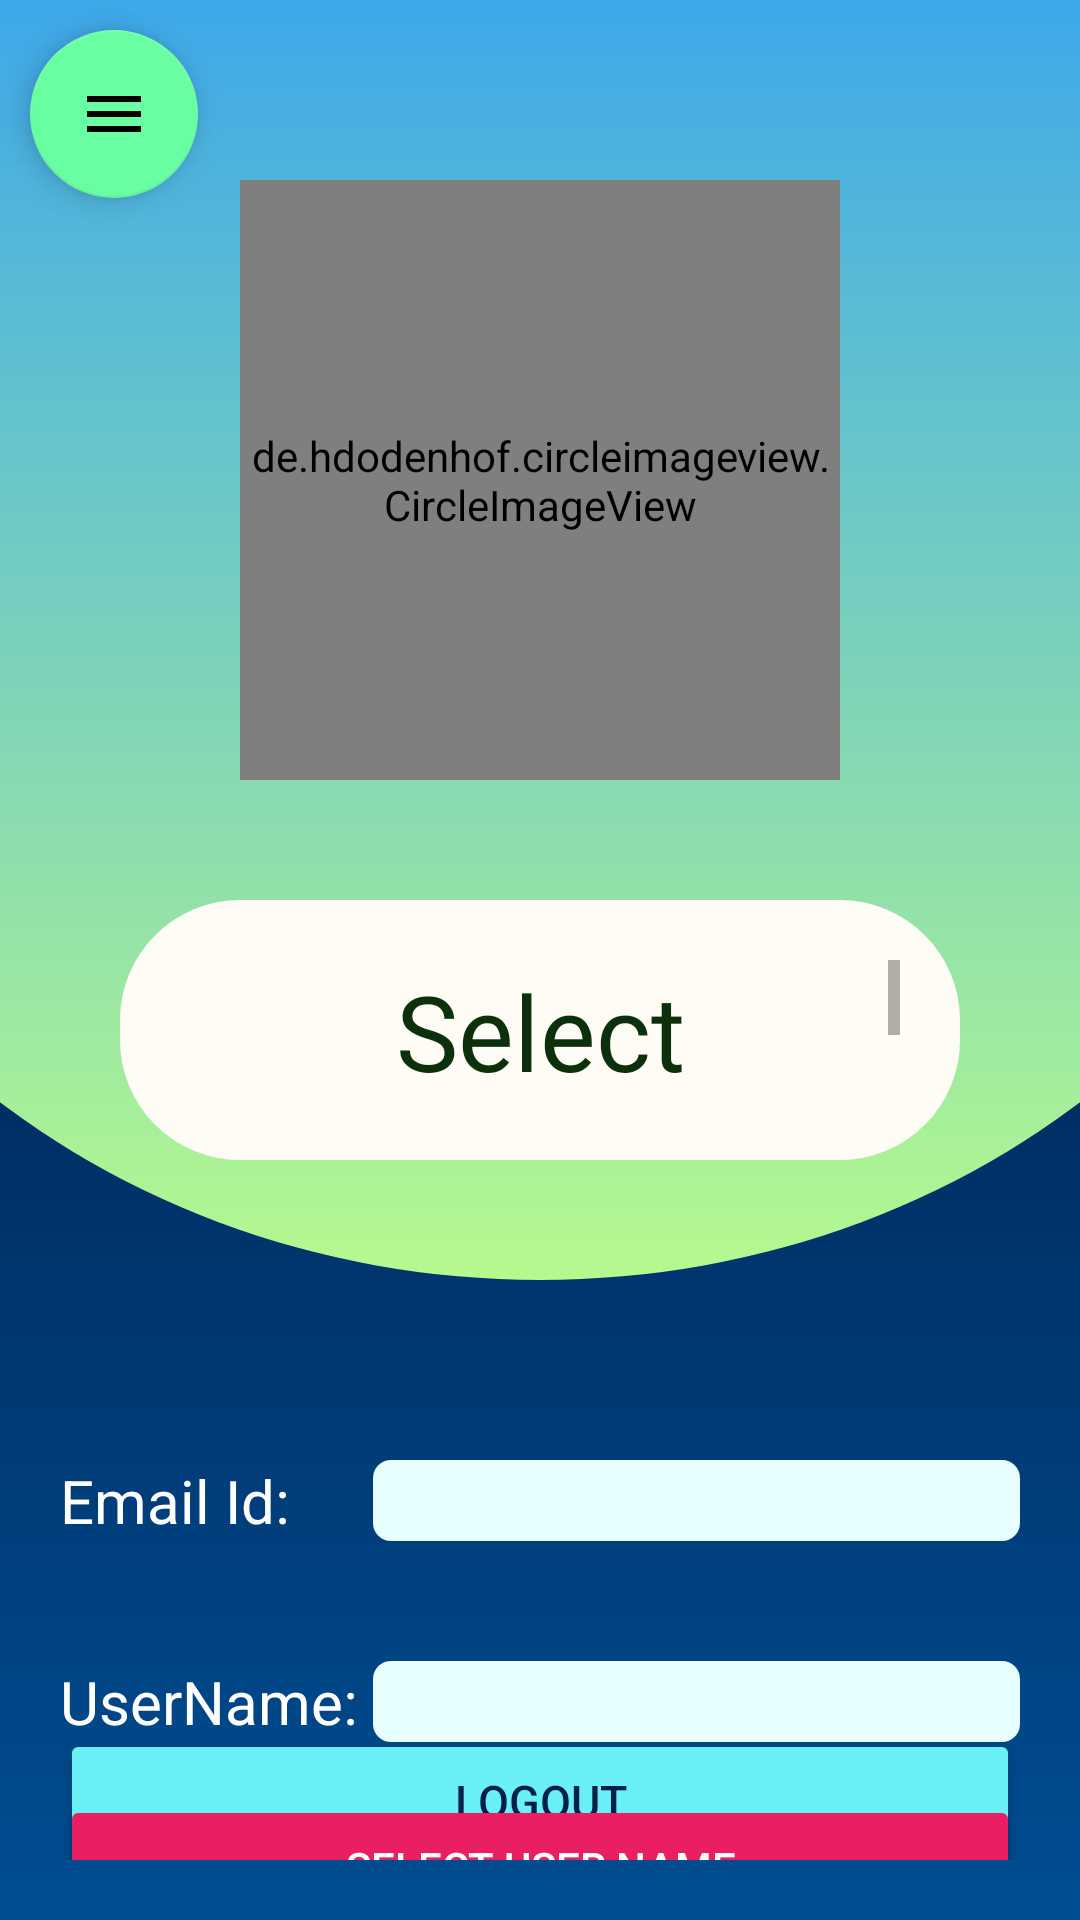

Icons on this 1080×1920 Android screen, each with its box as [x1, y1, x2, y2]:
menu: [30, 30, 198, 198]
